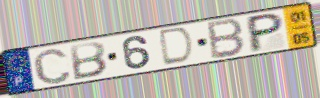6: (121, 35, 153, 71)
B: (207, 17, 247, 61), (68, 40, 109, 81)
C: (31, 46, 74, 85)
D: (159, 25, 197, 68)
P: (247, 11, 285, 55)
